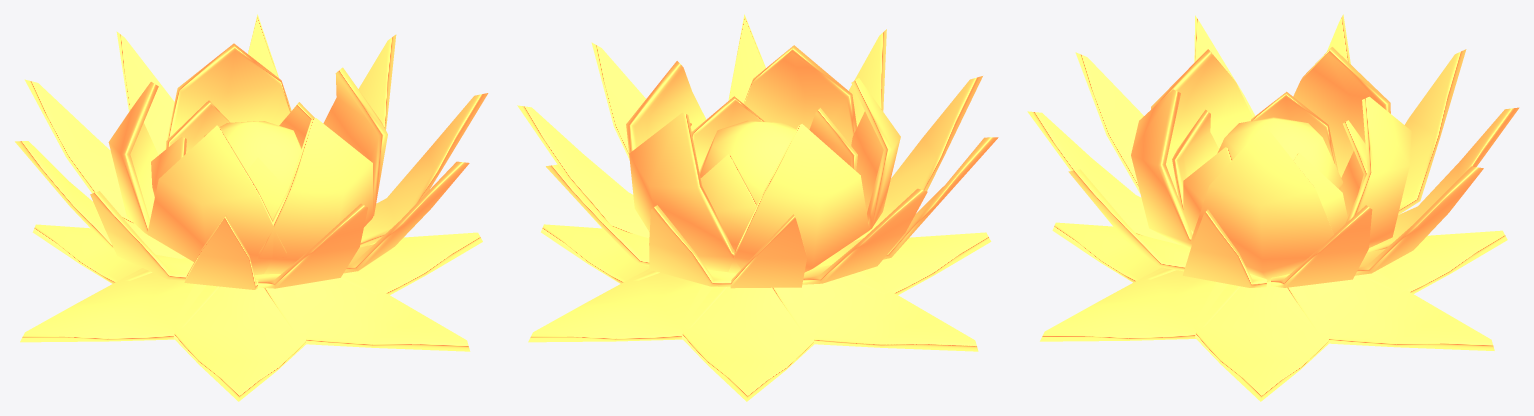
File: SunMesh.FBX
3 renders of one model, left to right at view 1: azimuth 30°, elevation 25°; view 2: azimuth 150°, elevation 25°; view 3: azimuth 270°, elevation 25°, orthographic.
Parts seen in each view (by area): view 1: CoreMechanic001; view 2: CoreMechanic001; view 3: CoreMechanic001.
Boxes of the visible parts, box(x1,y1,x2,y2) form: CoreMechanic001: box(15, 14, 488, 401); CoreMechanic001: box(517, 14, 998, 401); CoreMechanic001: box(1027, 14, 1519, 401).
Bounding box in the file's own units: 93.91 × 41.71 × 87.99.
